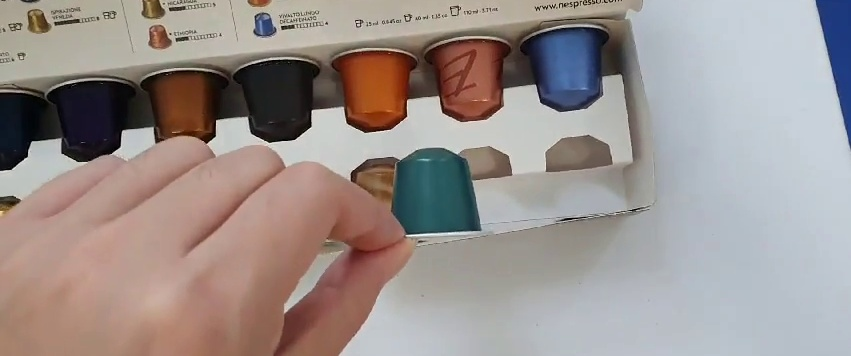capsule_13: (386, 147, 495, 247)
